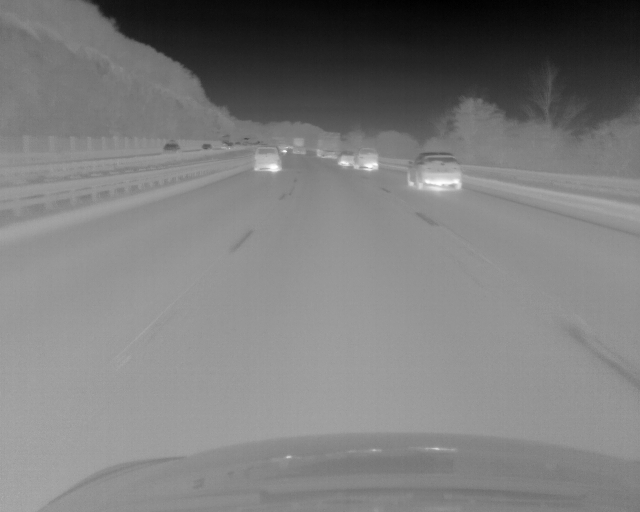car: (406, 153, 461, 191), (253, 147, 281, 171), (316, 132, 337, 159), (353, 148, 377, 171), (337, 151, 352, 166), (293, 138, 306, 154), (162, 142, 179, 153), (201, 143, 212, 150)
